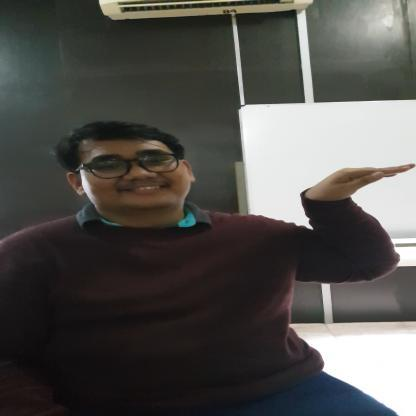Z: (296, 162, 416, 284)
